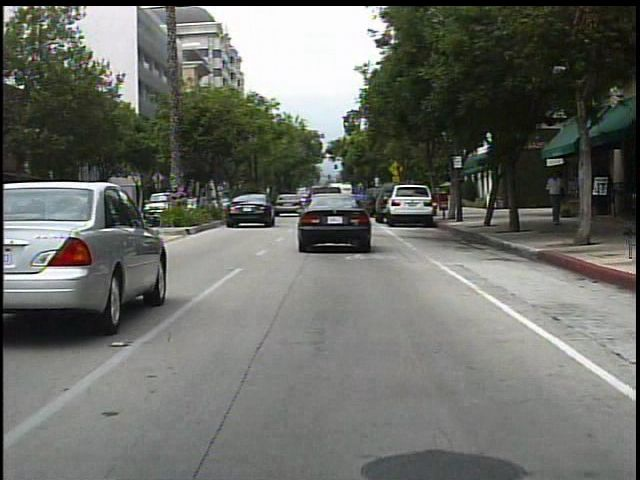person: (542, 170, 569, 229)
